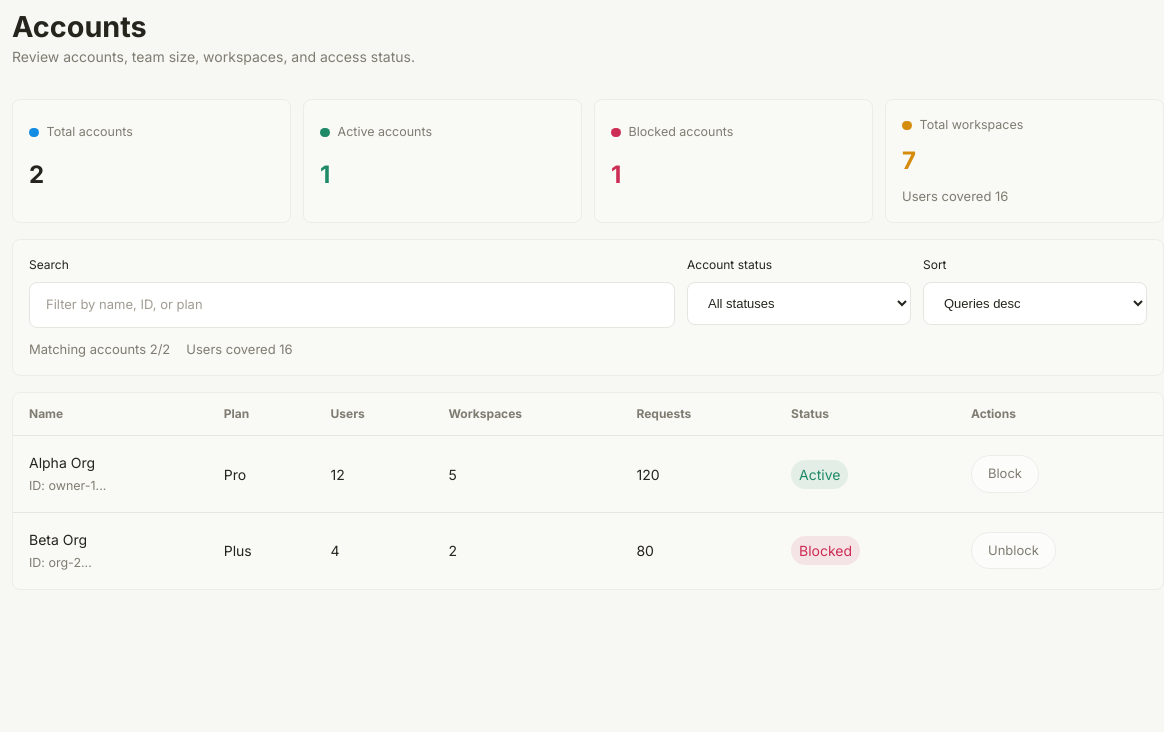
Scenario: admin surfaces › loads accounts and toggles block state
Check: the link "Alpha Org" is shown, box [29,454,95,471]
Step 1. Click the button "Block" → (1005, 474), box [971,455,1039,493]
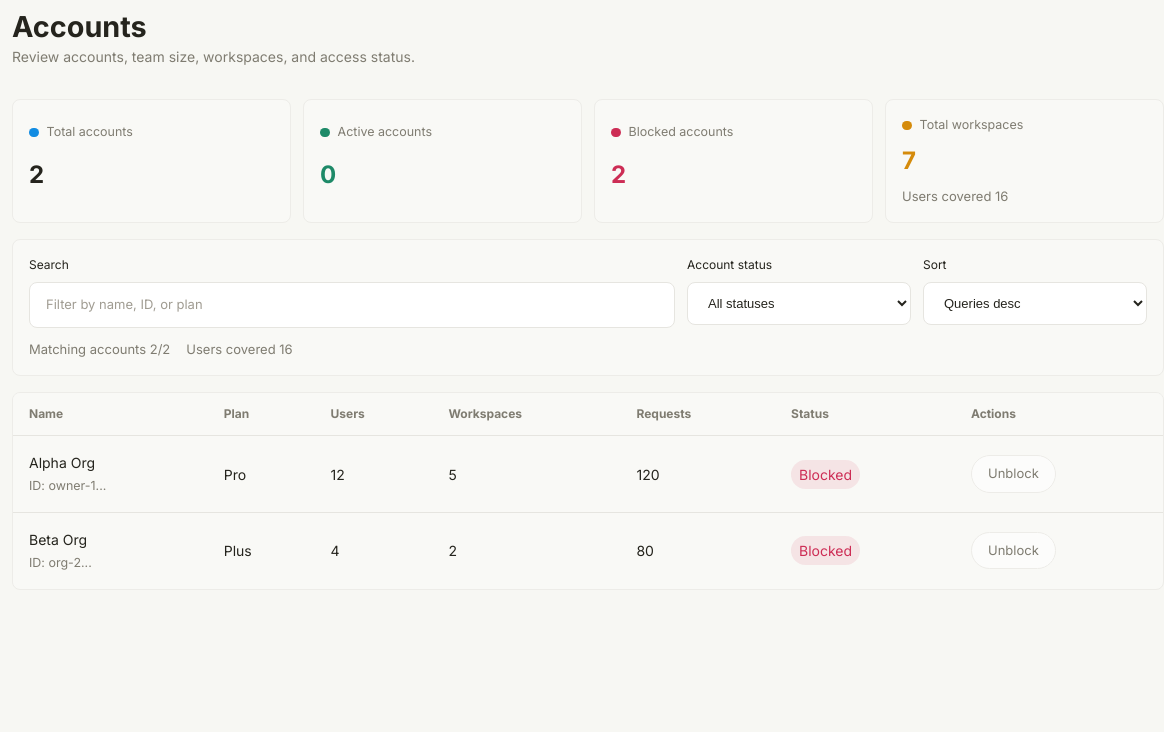
Check: the row "Alpha Org" is shown, box [13,436,1163,512]
Check: the button "Unblock" in the row of "Alpha Org" is shown, box [971,455,1056,493]
